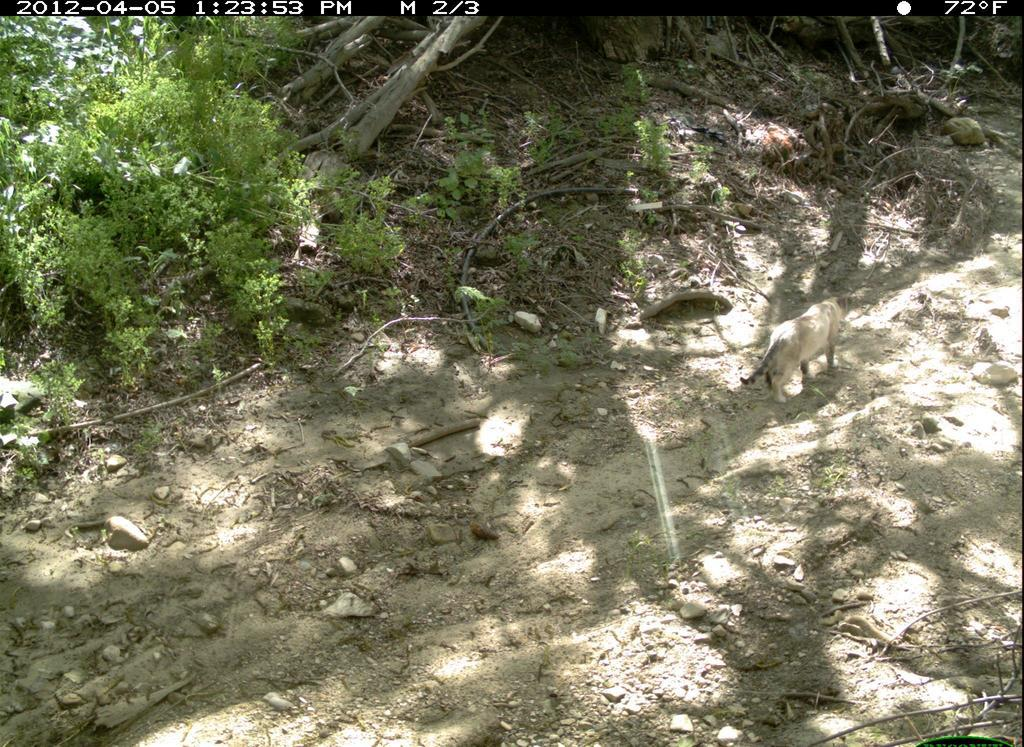cat: (738, 280, 850, 400)
